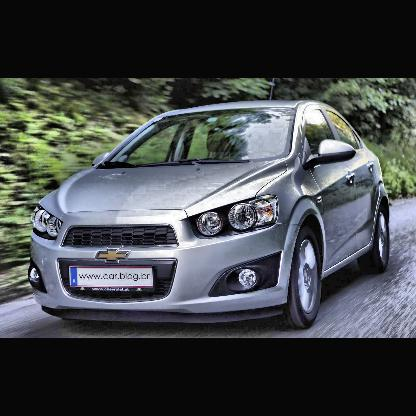Chevrolet Sonic Sedan 2012: (30, 101, 393, 329)
